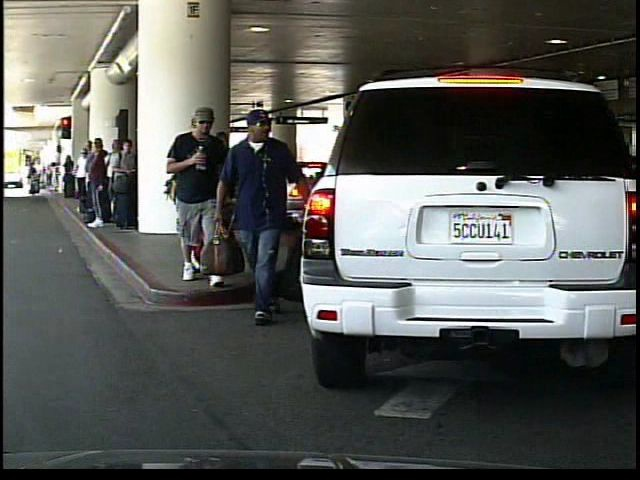person: (217, 103, 305, 327), (169, 106, 230, 286), (207, 136, 249, 248)
